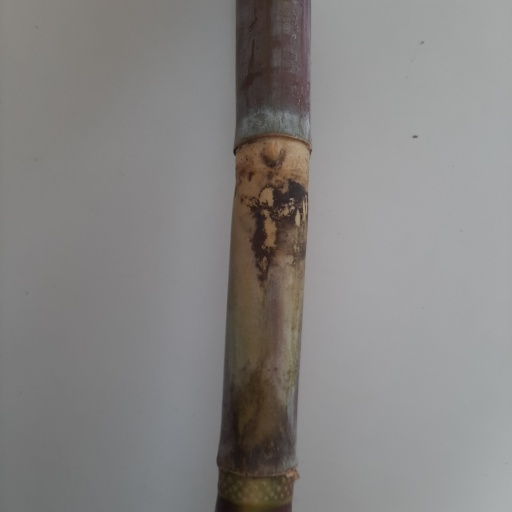Bud: (260, 136, 287, 171)
